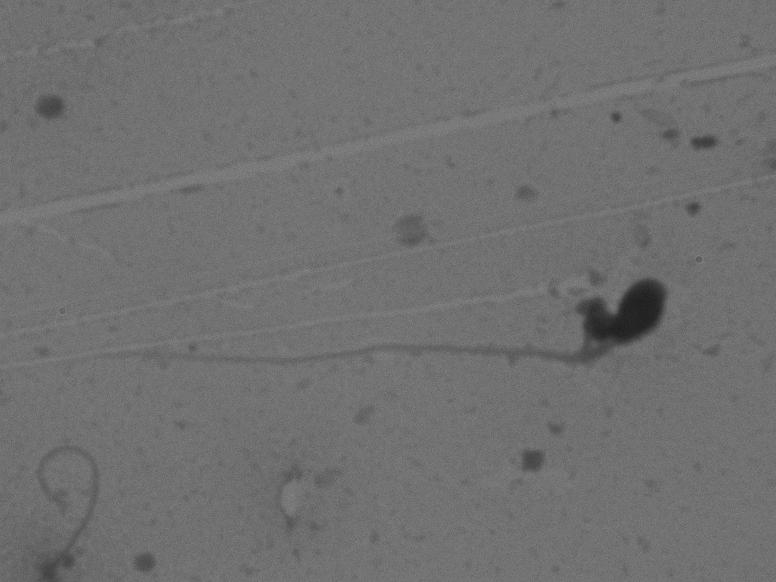Abnormal: (53, 242, 706, 412)
